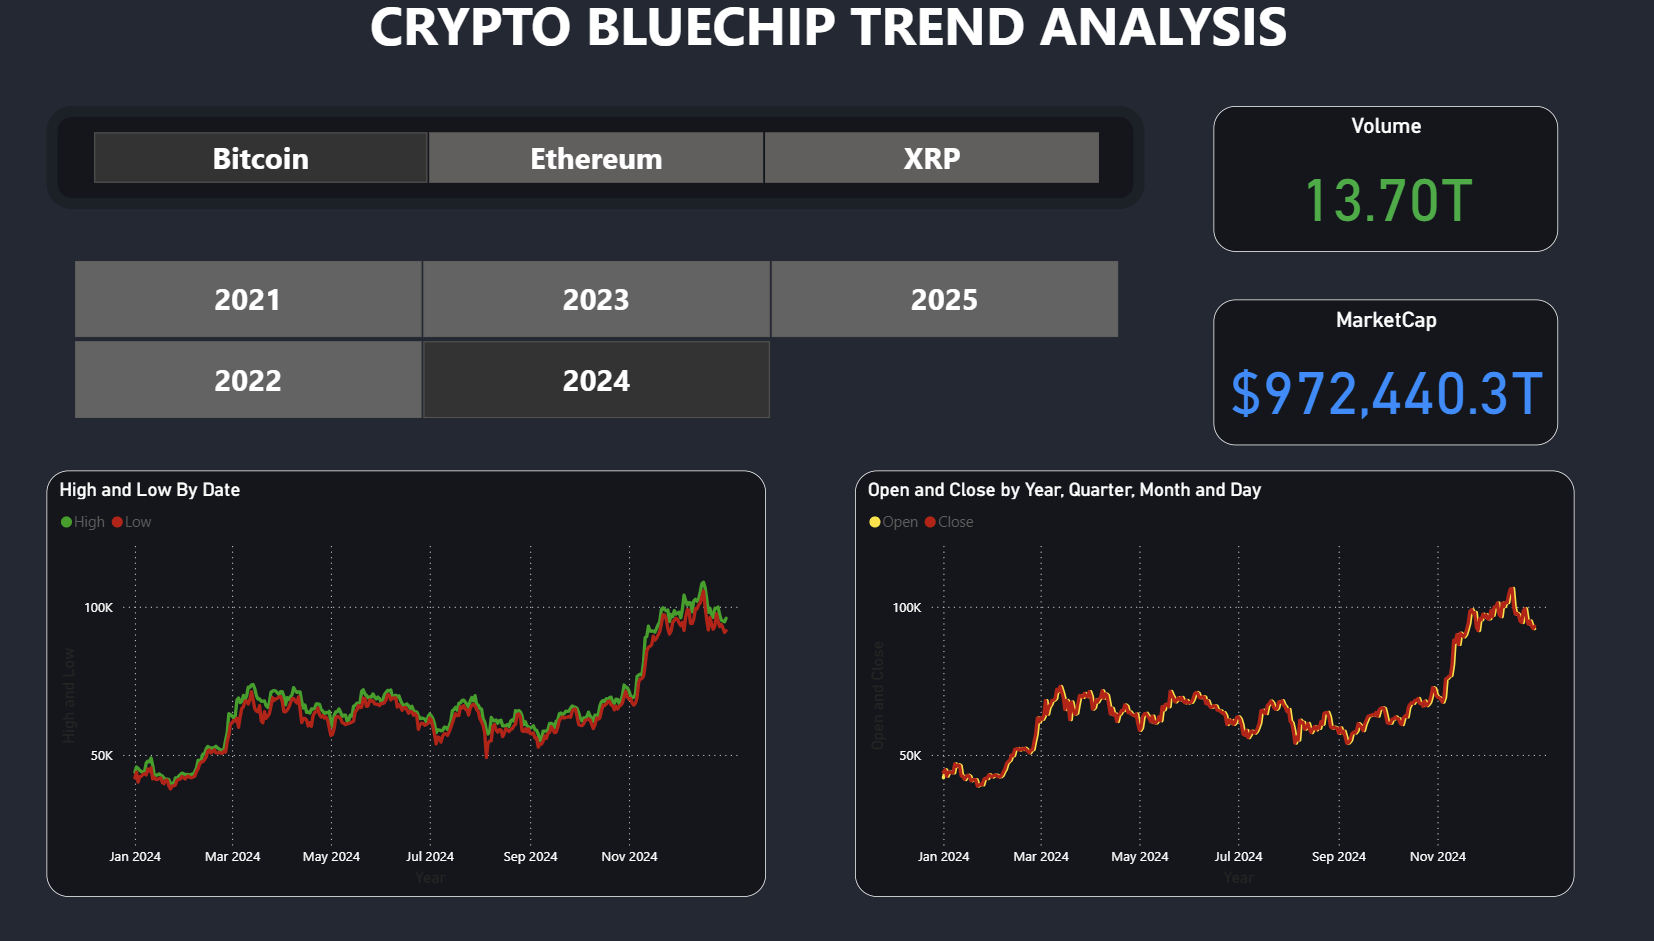

This screenshot's page, from the dashboard's own definition file:
{"tool":"powerbi","page":{"name":"Page 2","canvas":[1500,900],"ordinal":1},"visuals":[{"type":"slicer","fields":{"Values":["crypto_data_2021_2025.Name"]},"box":[41.8,141.5,993.8,93.3],"z":0},{"type":"slicer","fields":{"Values":["crypto_data_2021_2025.Year"]},"box":[42,274,994,156],"z":1000},{"type":"lineChart","title":"High and Low By Date","fields":{"Category":["crypto_data_2021_2025.Date.Variation.Date Hierarchy.Year","crypto_data_2021_2025.Date.Variation.Date Hierarchy.Quarter","crypto_data_2021_2025.Date.Variation.Date Hierarchy.Month","crypto_data_2021_2025.Date.Variation.Date Hierarchy.Day"],"Y":["Sum(crypto_data_2021_2025.High_Fixed)","Sum(crypto_data_2021_2025.Low_Fixed)"]},"box":[41.8,471.2,651.3,385.9],"z":2000},{"type":"textbox","box":[330,28.6,974.3,64.3],"z":4000},{"type":"card","title":"MarketCap","fields":{"Values":["Sum(crypto_data_2021_2025.Marketcap)"]},"box":[1098.3,316.8,312,131.9],"z":5000},{"type":"card","title":"Volume","fields":{"Values":["Sum(crypto_data_2021_2025.Volume_Fixed)"]},"box":[1098.3,141.5,312,131.9],"z":6000},{"type":"lineChart","fields":{"Category":["crypto_data_2021_2025.Date.Variation.Date Hierarchy.Year","crypto_data_2021_2025.Date.Variation.Date Hierarchy.Quarter","crypto_data_2021_2025.Date.Variation.Date Hierarchy.Month","crypto_data_2021_2025.Date.Variation.Date Hierarchy.Day"],"Y":["Sum(crypto_data_2021_2025.Open_Fixed)","Sum(crypto_data_2021_2025.Close_Fixed)"]},"box":[773.5,471.2,651.3,385.9],"z":7000}]}

Visuals, with their boxes on the page's 1500x900 design canvas (x1, y1, x2, y2). These are canvas units, not pixel positions in the 1654x941 screenshot, which may show the page scaled, cropped or inside an application window:
slicer - crypto_data_2021_2025.Name: bbox=[42, 142, 1036, 235]
slicer - crypto_data_2021_2025.Year: bbox=[42, 274, 1036, 430]
"High and Low By Date" lineChart: bbox=[42, 471, 693, 857]
textbox: bbox=[330, 29, 1304, 93]
"MarketCap" card: bbox=[1098, 317, 1410, 449]
"Volume" card: bbox=[1098, 142, 1410, 273]
lineChart - crypto_data_2021_2025.Date.Variation.Date Hierarchy.Year x crypto_data_2021_2025.Date.Variation.Date Hierarchy.Quarter: bbox=[774, 471, 1425, 857]
